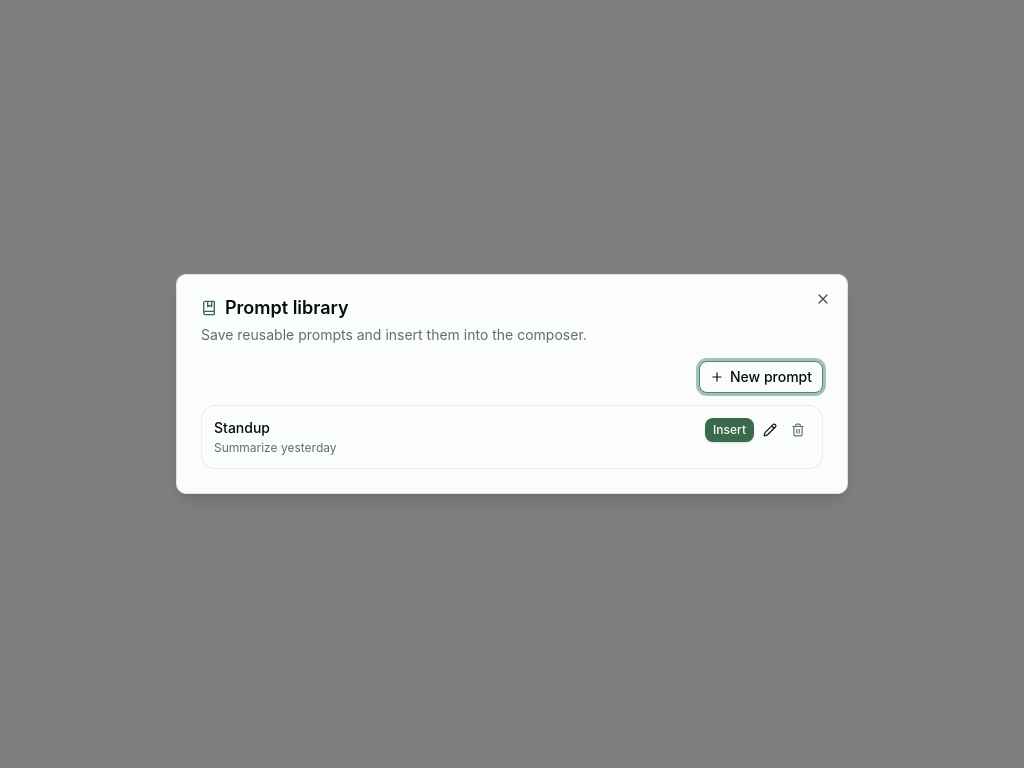
Test: PromptLibraryDialog › edits a prompt
The image size is (1024, 768).
expect the text "Standup" is shown: met, box [214, 419, 270, 436]
Click the button named "Edit Standup" at (770, 430), box [758, 418, 782, 442]
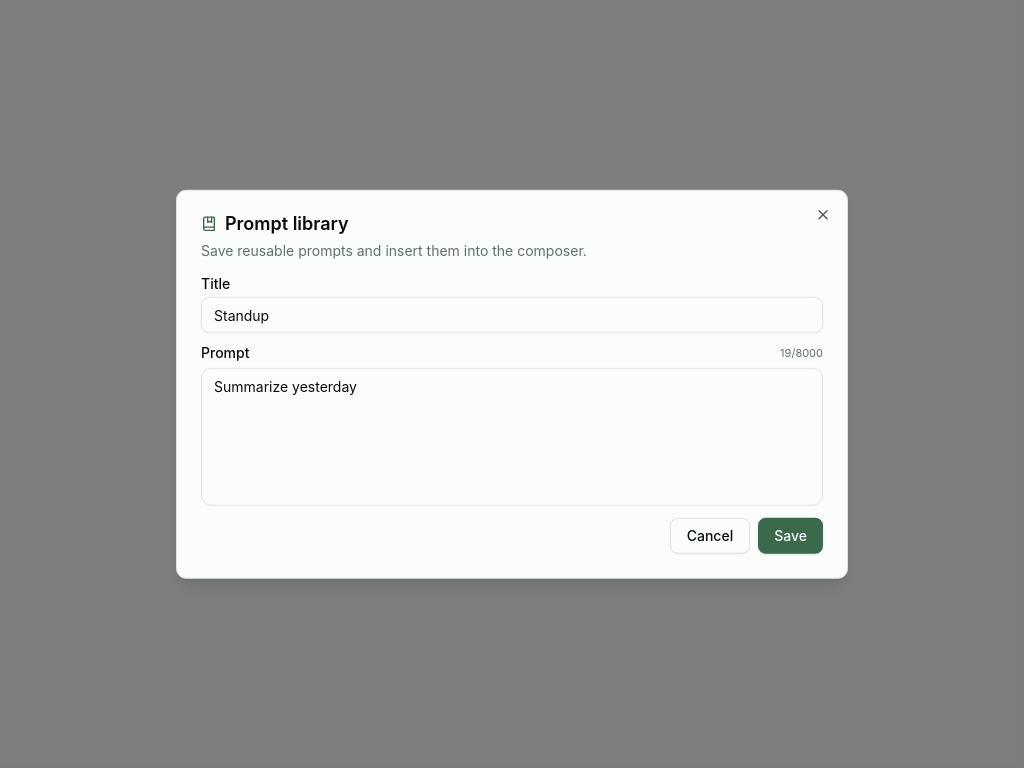
Replace the text in the field labelled "Title" with "Renamed standup" at (512, 315), box [201, 297, 823, 333]
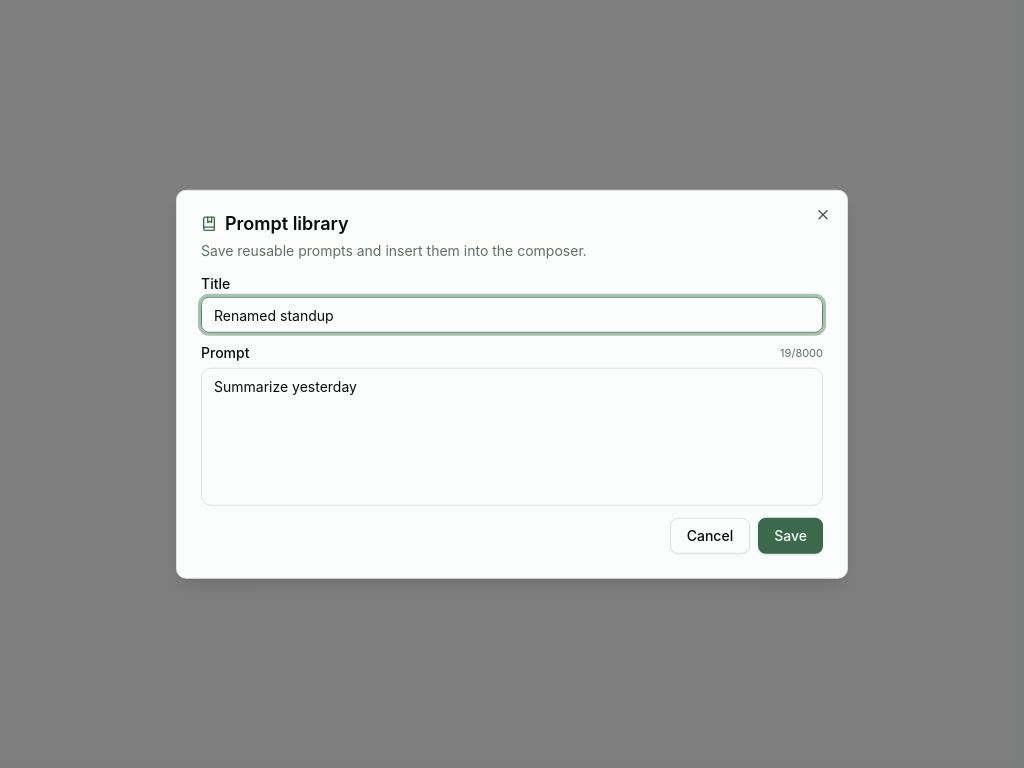
Click the button "Save" at (791, 535), box [758, 517, 823, 553]
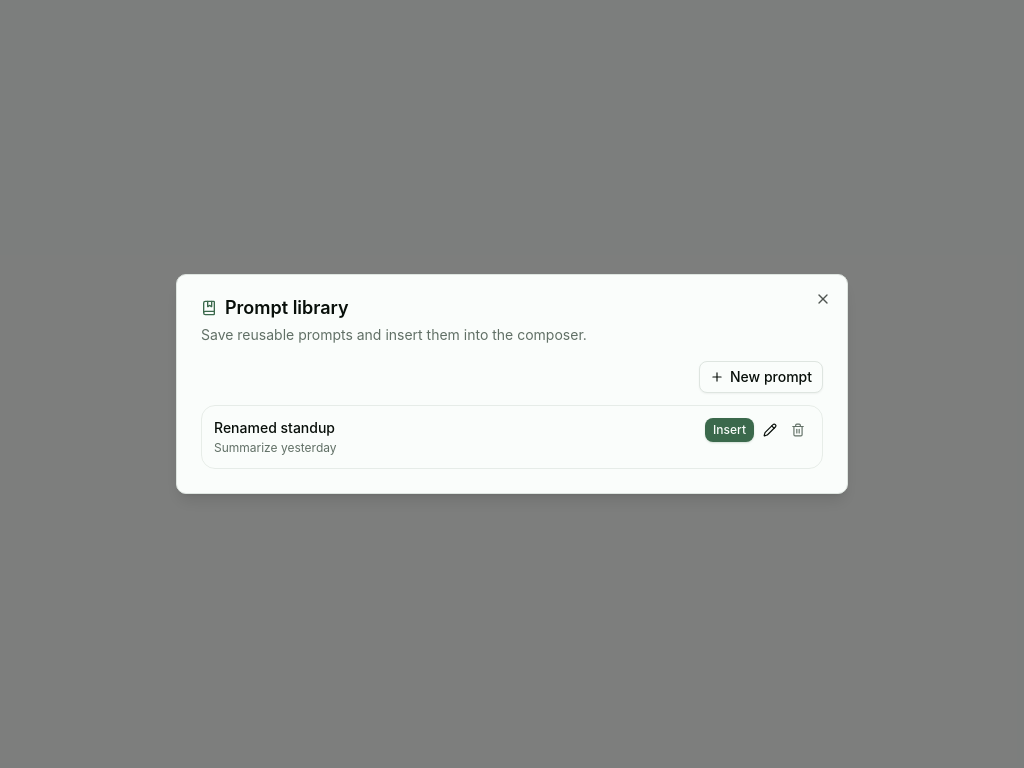
expect the text "Renamed standup" is shown: met, box [214, 418, 336, 438]
